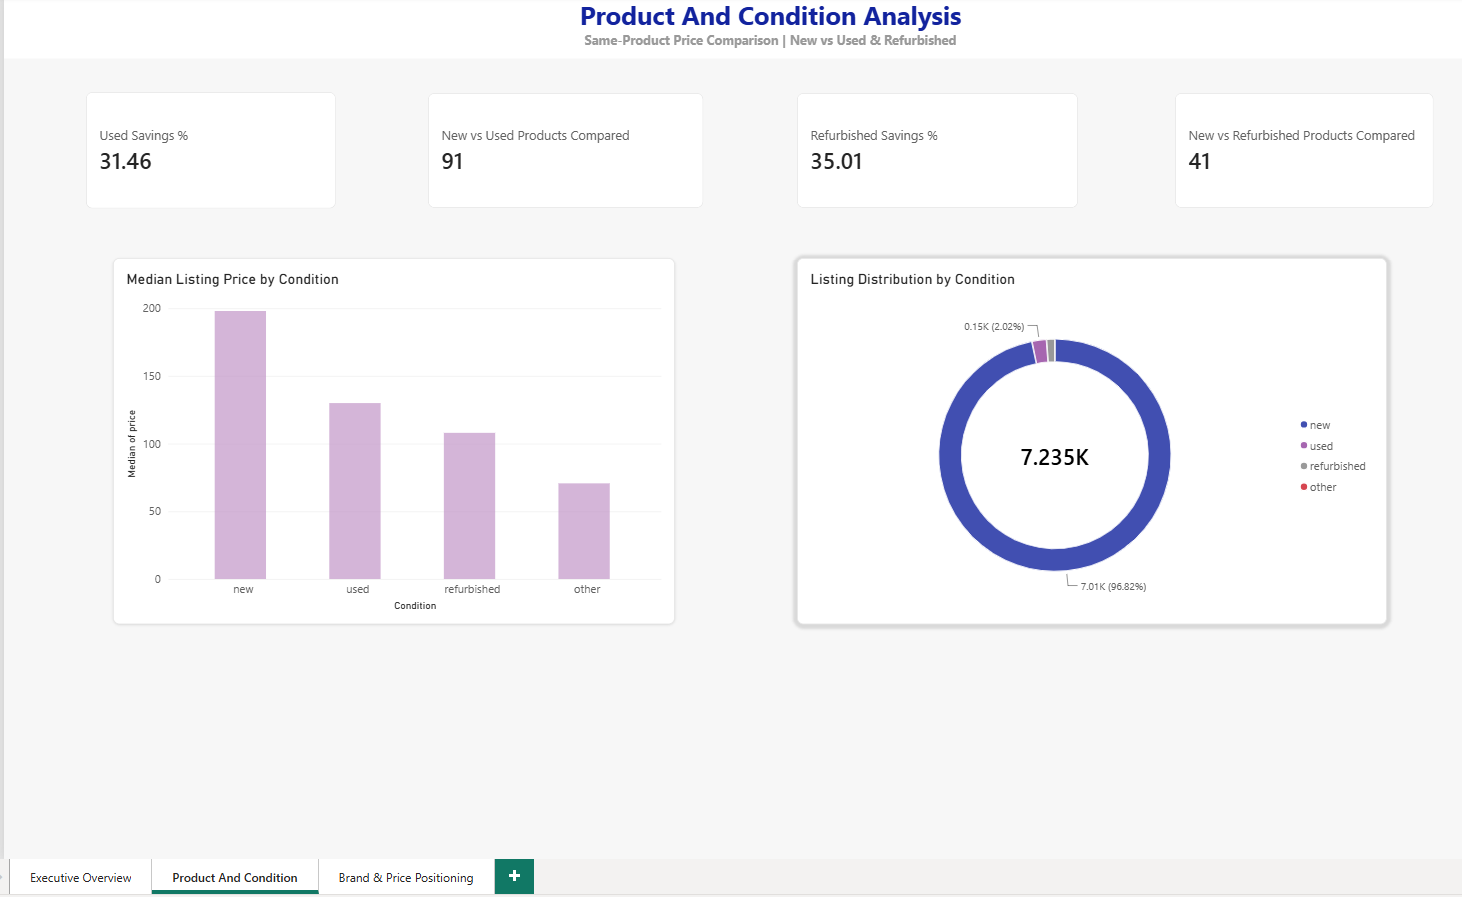

The dashboard page shown, as its layout file describes it:
{"tool":"powerbi","page":{"name":"Product And Condition","canvas":[1920,1080],"ordinal":1},"visuals":[{"type":"textbox","box":[0,0,1920.6,77.1],"z":0},{"type":"cardVisual","fields":{"Data":["electronics_pricing_clean.Used Savings %"]},"box":[103.2,118.9,313.5,146.2],"z":1000,"group":"g1"},{"type":"cardVisual","fields":{"Data":["electronics_pricing_clean.Refurbished Savings %"]},"box":[993.9,119.7,352.7,144.7],"z":2000,"group":"g1"},{"type":"cardVisual","fields":{"Data":["electronics_pricing_clean.Used Matched Products"]},"box":[531.2,119.7,345.1,144.7],"z":3000,"group":"g1"},{"type":"cardVisual","fields":{"Data":["electronics_pricing_clean.Refurbished Matched Products"]},"box":[1467.1,119.7,324,144.7],"z":4000,"group":"g1"},{"type":"clusteredColumnChart","title":"Median Listing Price by Condition","fields":{"Category":["electronics_pricing_clean.condition_clean"],"Y":["Median(electronics_pricing_clean.price)"]},"box":[136.8,327.5,704.3,459.2],"z":5000},{"type":"donutChart","title":"Listing Distribution by Condition","fields":{"Category":["electronics_pricing_clean.condition_clean"],"Y":["CountNonNull(electronics_pricing_clean.id)"]},"box":[993.6,327.5,739.3,459.2],"z":6000},{"type":"group","id":"g1","title":"Group 1","box":[103.2,118.9,1686.7,148],"z":6001}]}

Visuals, with their boxes on the page's 1920x1080 design canvas (x1, y1, x2, y2). These are canvas units, not pixel positions in the 1462x897 screenshot, which may show the page scaled, cropped or inside an application window:
textbox: box=[0, 0, 1921, 77]
cardVisual - electronics_pricing_clean.Used Savings %: box=[103, 119, 417, 265]
cardVisual - electronics_pricing_clean.Refurbished Savings %: box=[994, 120, 1347, 264]
cardVisual - electronics_pricing_clean.Used Matched Products: box=[531, 120, 876, 264]
cardVisual - electronics_pricing_clean.Refurbished Matched Products: box=[1467, 120, 1791, 264]
"Median Listing Price by Condition" clusteredColumnChart: box=[137, 328, 841, 787]
"Listing Distribution by Condition" donutChart: box=[994, 328, 1733, 787]
"Group 1" group: box=[103, 119, 1790, 267]
